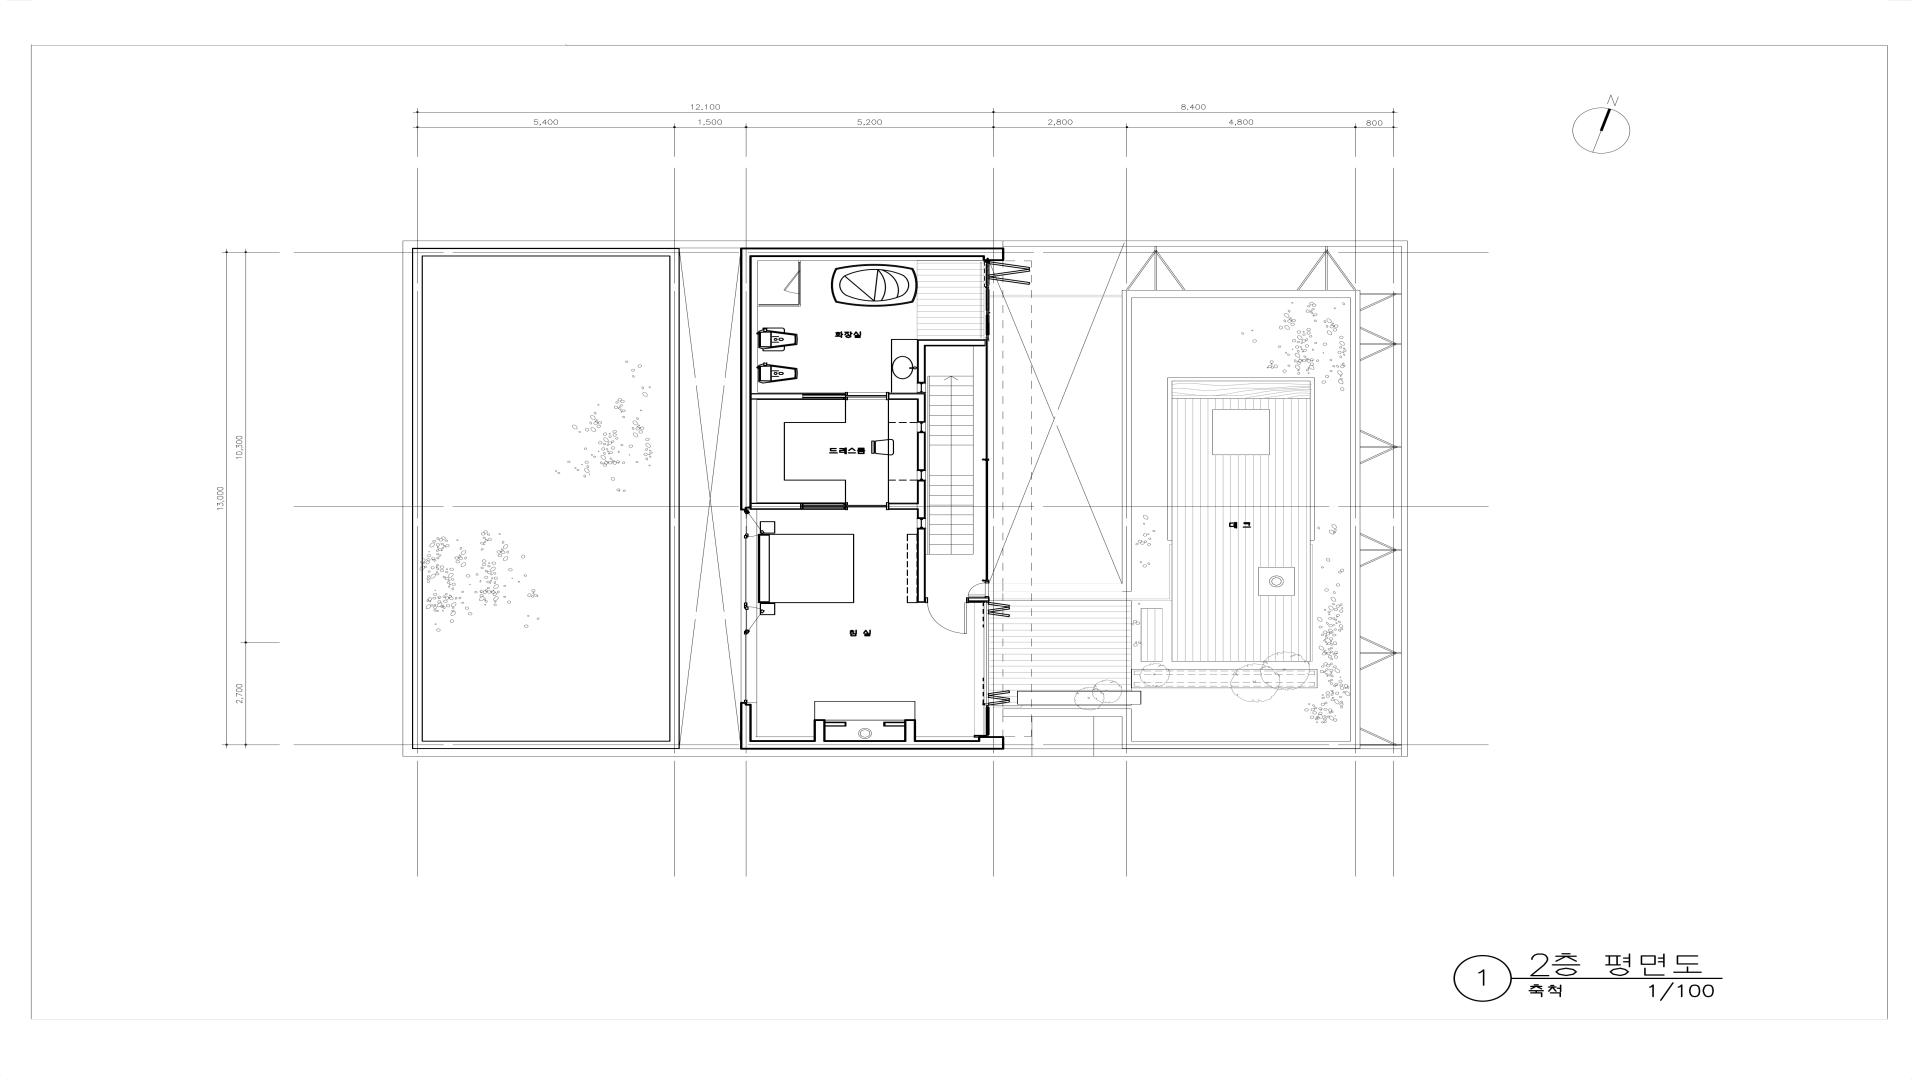door: (926, 597, 968, 634), (802, 502, 889, 510), (803, 392, 889, 400), (783, 270, 800, 293)
wall: (411, 256, 423, 741), (669, 257, 679, 741), (740, 248, 1004, 261), (740, 257, 752, 510), (752, 737, 1004, 749), (411, 248, 679, 257), (411, 741, 679, 749), (984, 339, 989, 582), (916, 529, 926, 603), (740, 703, 752, 749), (916, 339, 984, 347), (975, 705, 989, 737), (752, 502, 802, 510), (916, 433, 926, 471), (916, 480, 926, 518), (752, 393, 803, 400), (916, 347, 926, 382), (905, 719, 916, 740), (889, 393, 926, 400), (814, 720, 825, 740), (889, 502, 916, 510), (916, 400, 926, 422), (825, 721, 847, 727), (884, 721, 905, 727), (968, 597, 989, 601), (758, 305, 798, 306), (798, 293, 800, 306), (798, 261, 800, 270)
window: (975, 601, 1010, 705), (984, 261, 1031, 339), (740, 509, 757, 703), (968, 582, 989, 597), (916, 422, 926, 433), (916, 518, 926, 529), (916, 382, 926, 393), (916, 471, 926, 480)
